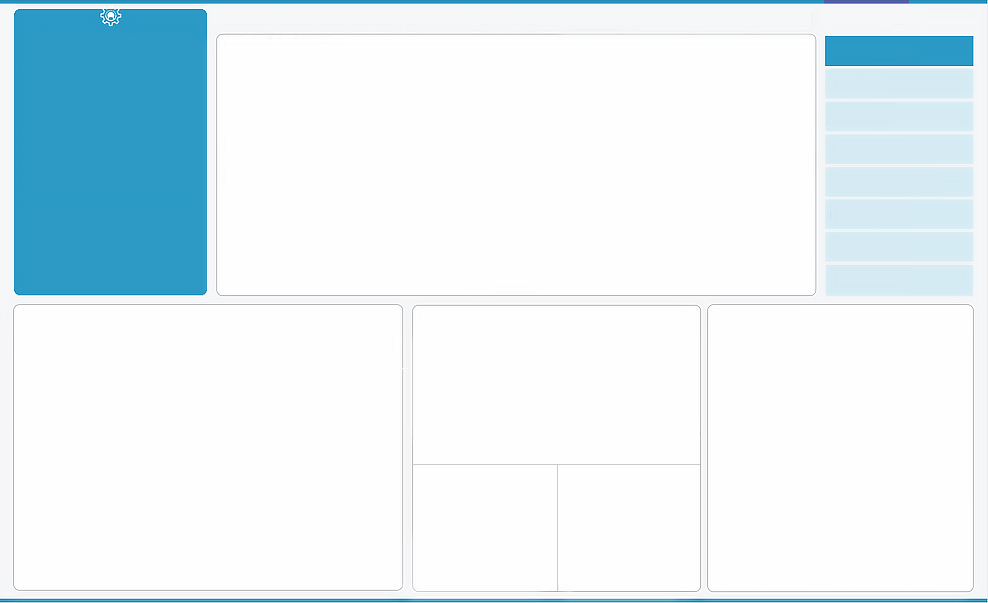

The dashboard page shown, as its layout file describes it:
{"tool":"powerbi","page":{"name":"第 1 页","canvas":[1920,1080],"ordinal":0},"visuals":[{"type":"textbox","box":[1719.4,72.1,76.8,40.8],"z":0},{"type":"lineChart","title":"数据总览","fields":{"Category":["日历表.Date.变体.Date Hierarchy.Year"],"Y":["01-数据度量.01-05 权益合计","01-数据度量.01-07 税后利润","01-数据度量.01-06 营业收入","01-数据度量.01-03 负债合计","01-数据度量.01-04 资产合计","01-数据度量.01-08 销售成本"]},"box":[433.7,71.6,1143.2,440],"z":1000},{"type":"slicer","fields":{"Values":["主表项目表.科目"]},"box":[1607.2,113.3,283.1,415.3],"z":2000},{"type":"donutChart","title":"主要现金流量变动","fields":{"Y":["01-数据度量.01-10 经营活动现金流量净额","01-数据度量.01-11 投资活动现金流量净额","01-数据度量.01-12 融资活动现金流量净额"]},"box":[804.9,552.8,335.7,265.6],"z":3000},{"type":"card","fields":{"Values":["01-数据度量.01-09 现金及现金等价物净增加额"]},"box":[827.9,853.5,264.3,103.8],"z":4000},{"type":"card","fields":{"Values":["01-数据度量.01-13 现金及现金等价物期末余额"]},"box":[827.9,954.6,264.3,103.8],"z":5000},{"type":"card","fields":{"Values":["01-数据度量.01-14 资本性支出"]},"box":[1091.9,851.7,263.8,103.1],"z":6000},{"type":"card","fields":{"Values":["01-数据度量.01-15 投资购买"]},"box":[1091.9,956.3,263.8,103.1],"z":7000},{"type":"slicer","fields":{"Values":["日历表.年"]},"box":[904.7,5.9,704.3,54.5],"z":8000},{"type":"pivotTable","fields":{"Rows":["资产负债表.科目"],"Values":["Sum(资产负债表.金额)"],"Columns":["资产负债表.日期"]},"box":[1382.2,552.6,508.4,506.9],"z":9000},{"type":"card","fields":{"Values":["02-筛选度量.02-02 经营活动现金流量净额是否为负"]},"box":[1127.2,613.5,194.2,67.4],"z":10000},{"type":"card","fields":{"Values":["02-筛选度量.02-03 投资活动现金流量净额是否为负"]},"box":[1127.2,686.3,194.2,67.4],"z":11000},{"type":"card","fields":{"Values":["02-筛选度量.02-04 融资活动现金流量净额是否为负"]},"box":[1127.2,753.7,194.2,67.4],"z":12000},{"type":"textbox","box":[49.9,59.3,345.2,451.7],"z":13000},{"type":"slicer","fields":{"Values":["主要指标.科目"]},"box":[39.1,593.3,690.3,53.9],"z":14000},{"type":"textbox","box":[39.1,552.8,111.9,40.4],"z":15000},{"type":"clusteredBarChart","fields":{"Category":["日历表.Date.变体.Date Hierarchy.Year","日历表.Date.变体.Date Hierarchy.Quarter","日历表.Date.变体.Date Hierarchy.Month","日历表.Date.变体.Date Hierarchy.Day"],"Y":["Sum(主要指标.金额)"]},"box":[49.9,674.2,690.3,354.6],"z":16000}]}

Visuals, with their boxes on the page's 1920x1080 design canvas (x1, y1, x2, y2). These are canvas units, not pixel positions in the 988x603 screenshot, which may show the page scaled, cropped or inside an application window:
textbox: select_region(1719, 72, 1796, 113)
"数据总览" lineChart: select_region(434, 72, 1577, 512)
slicer - 主表项目表.科目: select_region(1607, 113, 1890, 529)
"主要现金流量变动" donutChart: select_region(805, 553, 1141, 818)
card - 01-数据度量.01-09 现金及现金等价物净增加额: select_region(828, 854, 1092, 957)
card - 01-数据度量.01-13 现金及现金等价物期末余额: select_region(828, 955, 1092, 1058)
card - 01-数据度量.01-14 资本性支出: select_region(1092, 852, 1356, 955)
card - 01-数据度量.01-15 投资购买: select_region(1092, 956, 1356, 1059)
slicer - 日历表.年: select_region(905, 6, 1609, 60)
pivotTable - 资产负债表.科目 x Sum(资产负债表.金额): select_region(1382, 553, 1891, 1060)
card - 02-筛选度量.02-02 经营活动现金流量净额是否为负: select_region(1127, 614, 1321, 681)
card - 02-筛选度量.02-03 投资活动现金流量净额是否为负: select_region(1127, 686, 1321, 754)
card - 02-筛选度量.02-04 融资活动现金流量净额是否为负: select_region(1127, 754, 1321, 821)
textbox: select_region(50, 59, 395, 511)
slicer - 主要指标.科目: select_region(39, 593, 729, 647)
textbox: select_region(39, 553, 151, 593)
clusteredBarChart - 日历表.Date.变体.Date Hierarchy.Year x 日历表.Date.变体.Date Hierarchy.Quarter: select_region(50, 674, 740, 1029)
